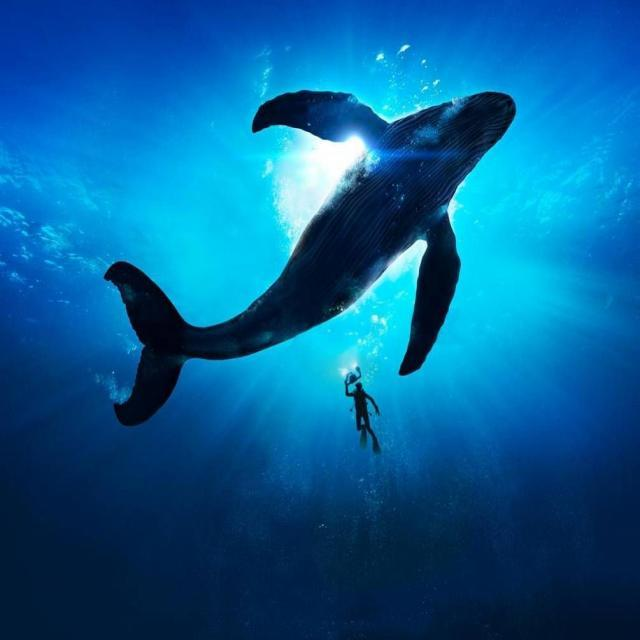blue_whale: (48, 70, 574, 353)
